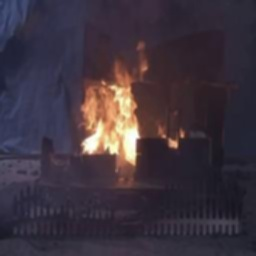fire: (75, 36, 150, 163)
